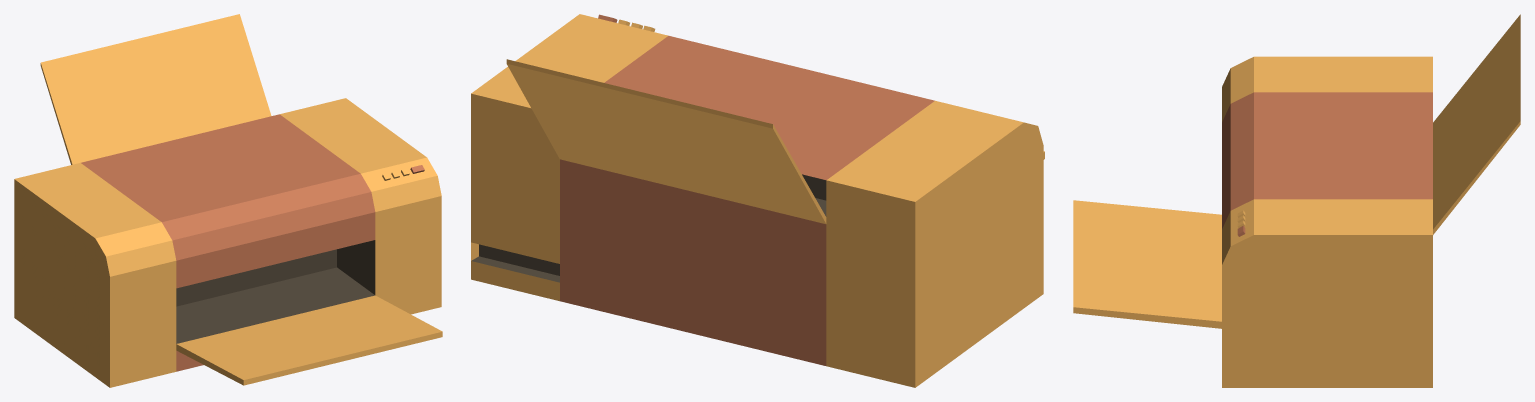
Rendered from printer.fbx.
The picture shows the model from 3 angles, left to right: view 1: azimuth 30°, elevation 25°; view 2: azimuth 150°, elevation 25°; view 3: azimuth 270°, elevation 25°; orthographic projection. The views are drawn at different scales.
Visible parts, largest first — view 1: printer_001_14; view 2: printer_001_14; view 3: printer_001_14.
Boxes of the visible parts, x1=… form: printer_001_14: x1=14, y1=14, x2=442, y2=387; printer_001_14: x1=471, y1=14, x2=1044, y2=387; printer_001_14: x1=1073, y1=14, x2=1520, y2=387.
Size of the model in its own units: 42.85 by 25.91 by 45.41.
